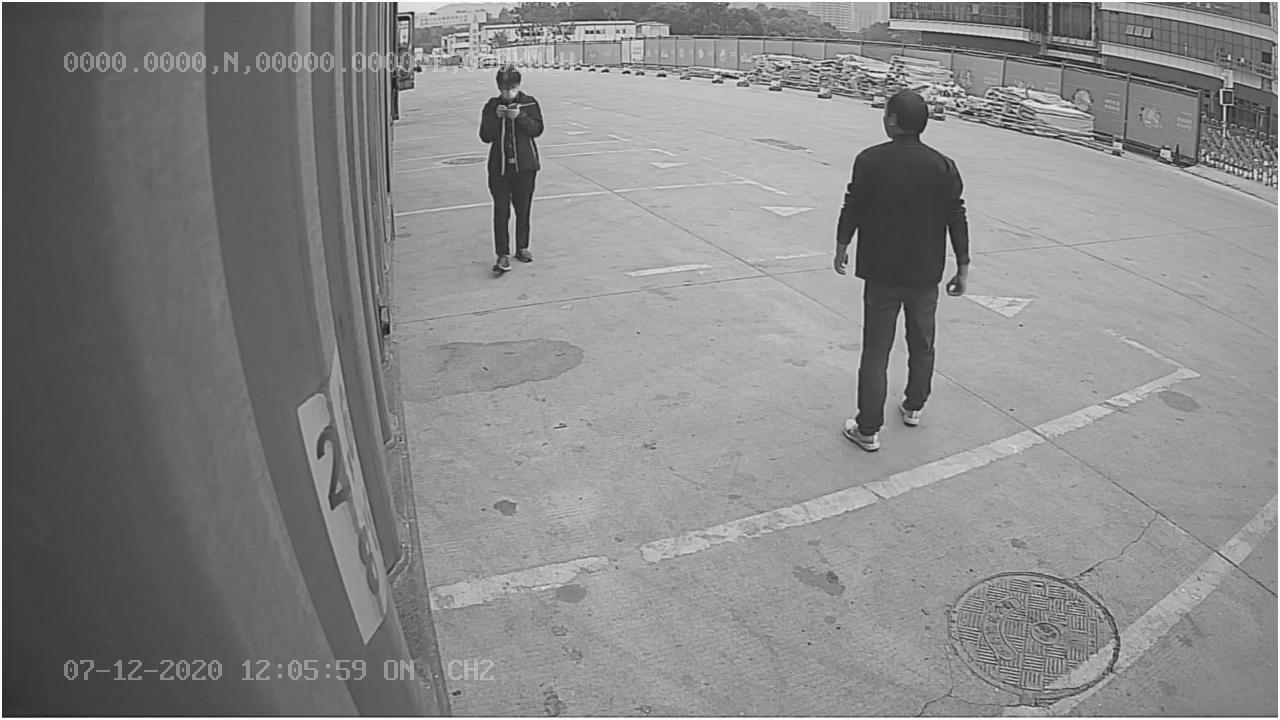person: (832, 81, 975, 456)
